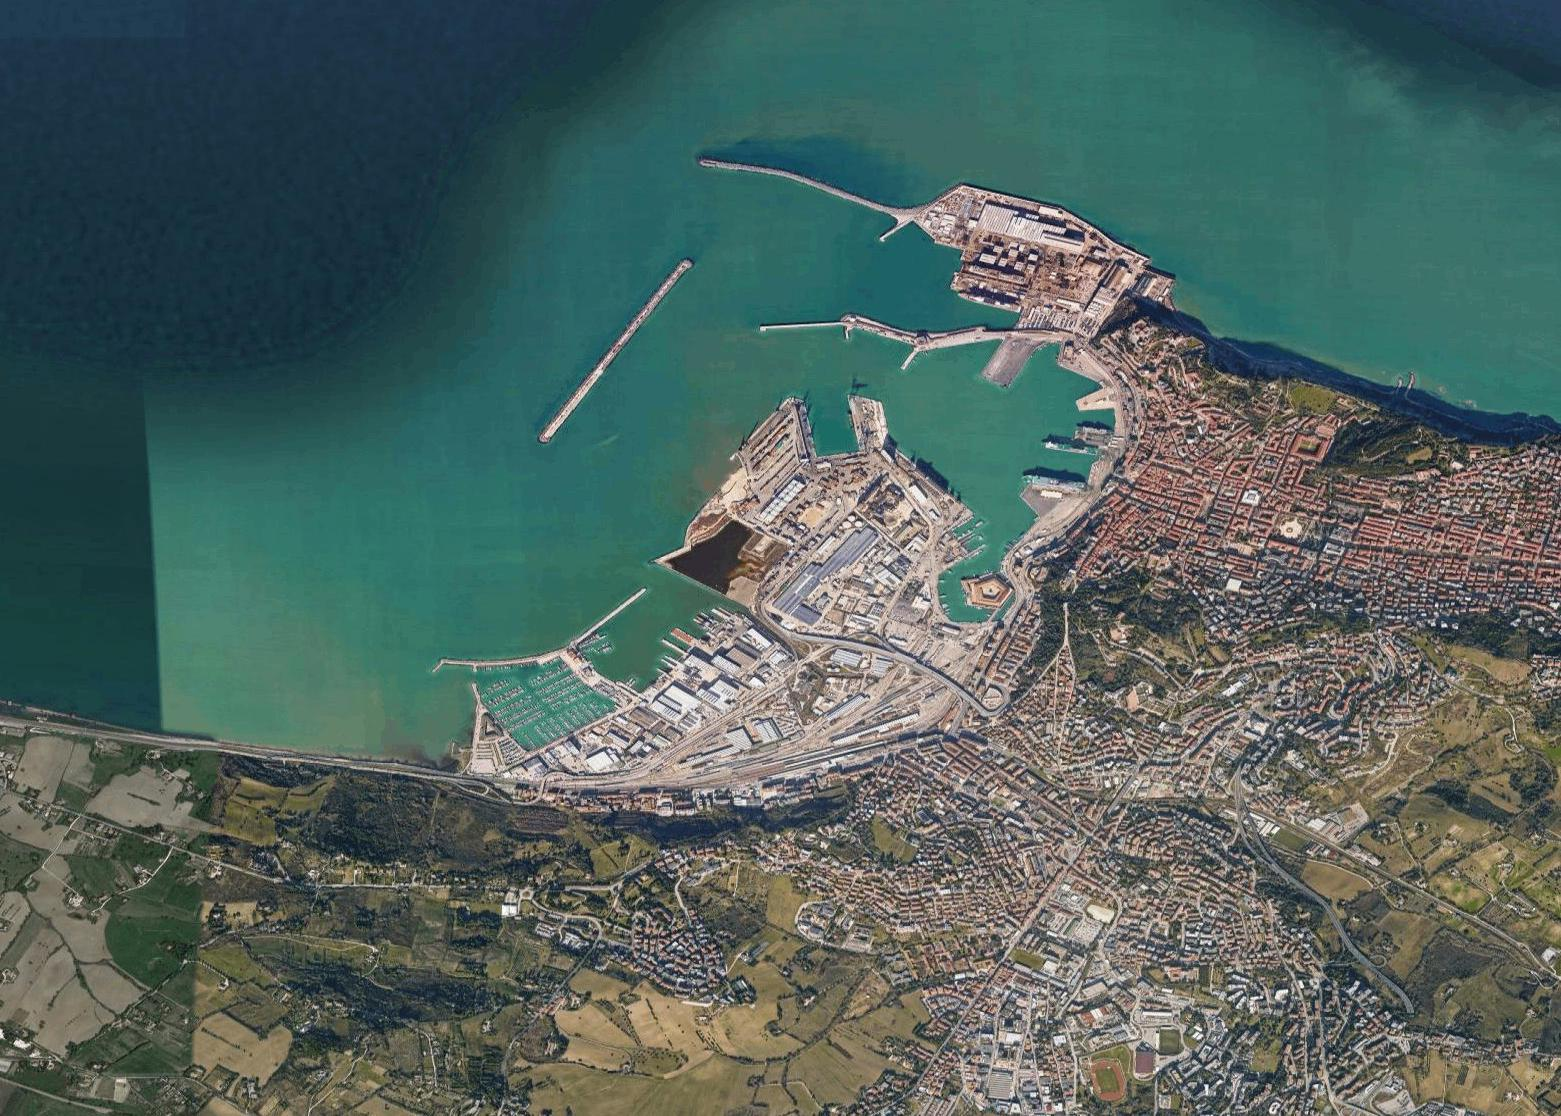harbor: (402, 153, 1140, 789)
train_station: (806, 701, 930, 763)
